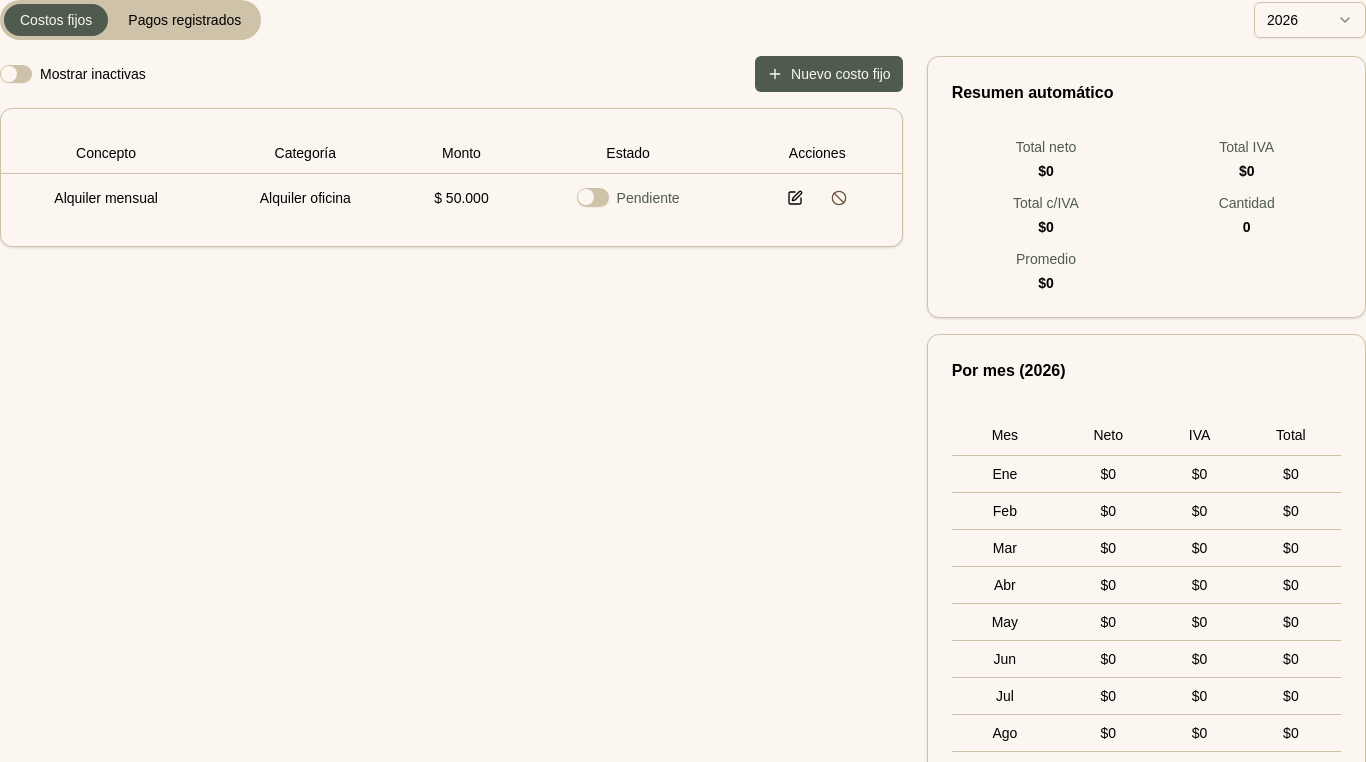
Scenario: FixedExpensesTab › prefills the amount input formatted when editing an existing fixed expense
expect the text "Alquiler mensual" is shown: met, box [1,173,211,222]
Click the button named "Editar" at (795,198), box [777,182,813,214]
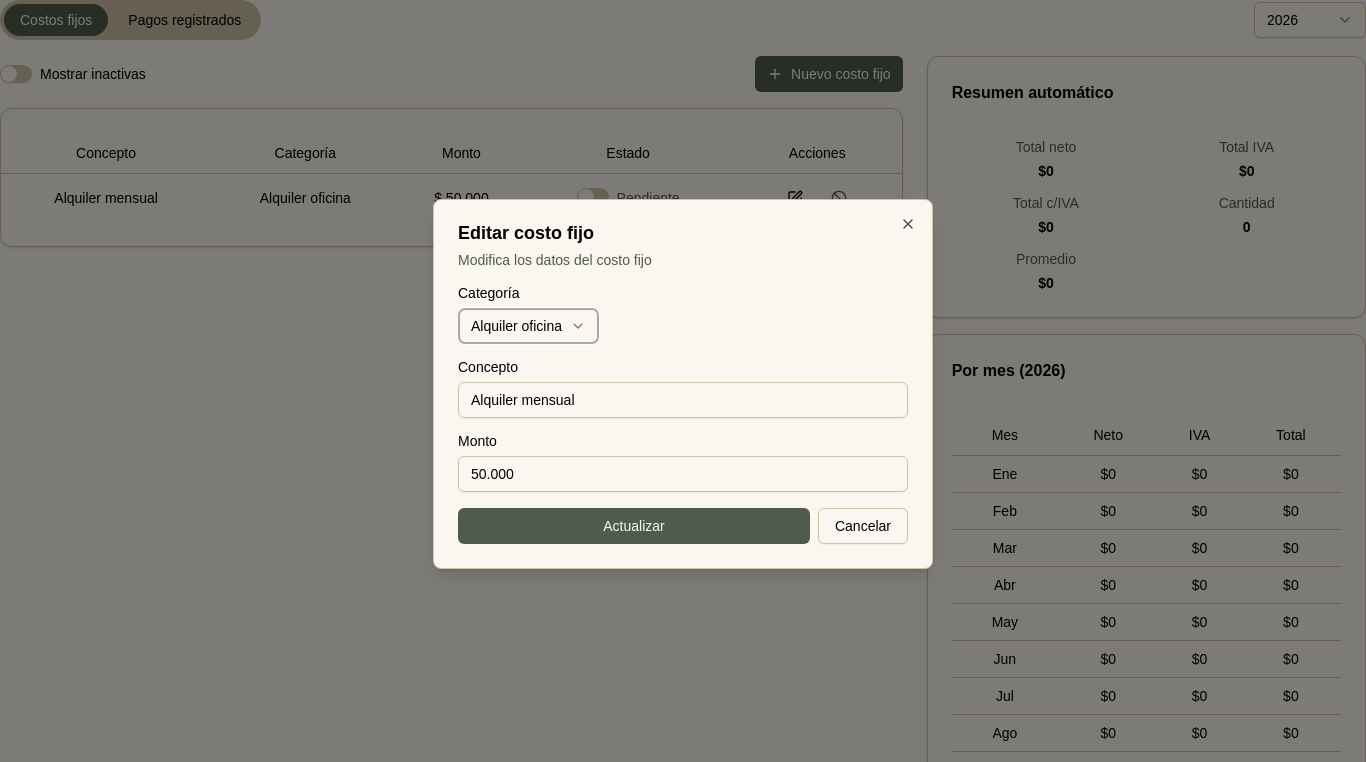
expect the field labelled "Monto" holds "50.000": met, box [458,456,908,492]
